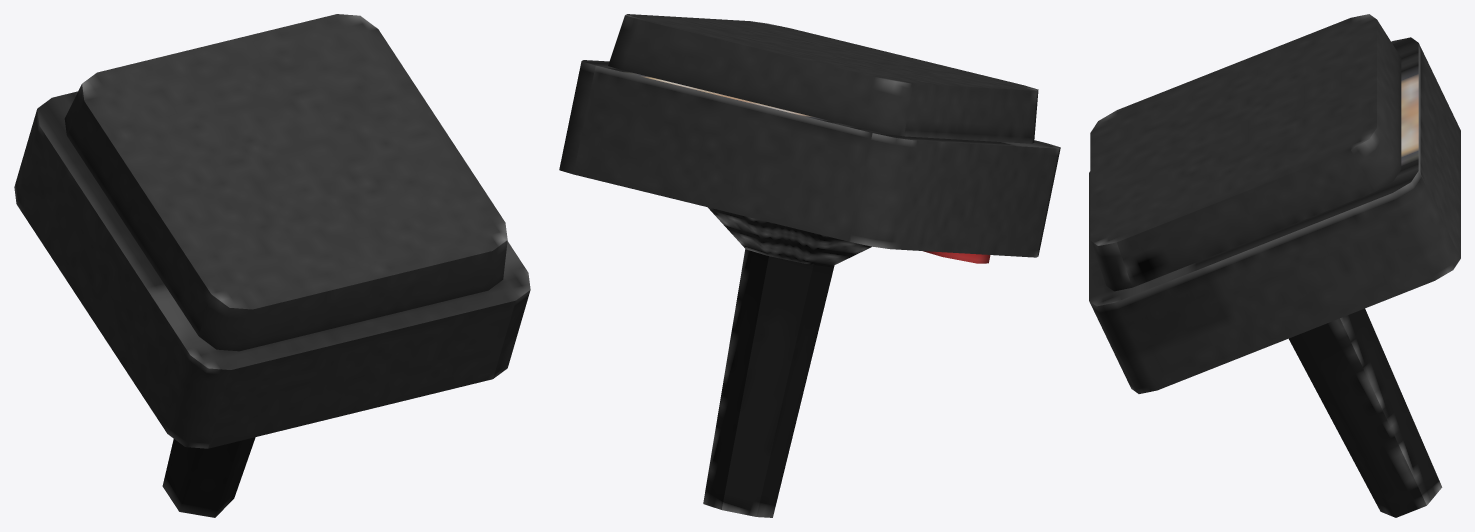
Rendered from Atari_Controller_A.fbx.
The picture shows the model from 3 angles, left to right: view 1: azimuth 30°, elevation 25°; view 2: azimuth 150°, elevation 25°; view 3: azimuth 270°, elevation 25°; orthographic projection. The views are drawn at different scales.
Visible parts, largest first — view 1: Atari_Controller_A; view 2: Atari_Controller_A; view 3: Atari_Controller_A.
Part boxes in pixels (x1,y1,x2,y2): Atari_Controller_A: [14, 14, 530, 517]; Atari_Controller_A: [559, 14, 1060, 517]; Atari_Controller_A: [1089, 14, 1460, 517].
Bounding box in the file's own units: 0.0748 × 0.1006 × 0.0774.
